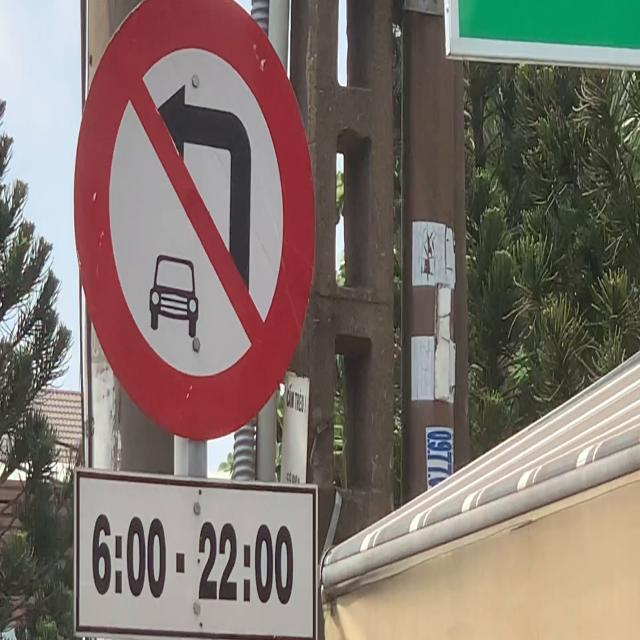Cam re trai: (72, 0, 321, 449)
